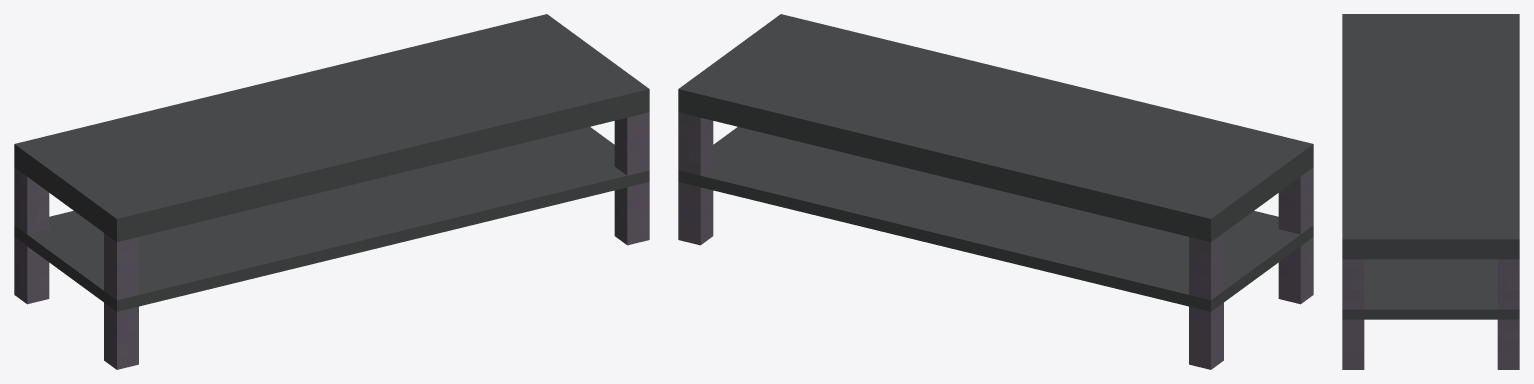
Rendered from alchemyStand.gltf.
The picture shows the model from 3 angles, left to right: view 1: azimuth 30°, elevation 25°; view 2: azimuth 150°, elevation 25°; view 3: azimuth 270°, elevation 25°; orthographic projection. The views are drawn at different scales.
Parts seen in each view (by area): view 1: cube (×8); view 2: cube (×8); view 3: cube (×6).
Part boxes in pixels (box(x1,y1,x2,y2)): cube (×8): box(14, 14, 649, 369); cube (×8): box(678, 14, 1313, 369); cube (×6): box(1342, 14, 1519, 369).
Bounding box in the file's own units: 3 × 0.8125 × 1.
1 material, 1 textured.
